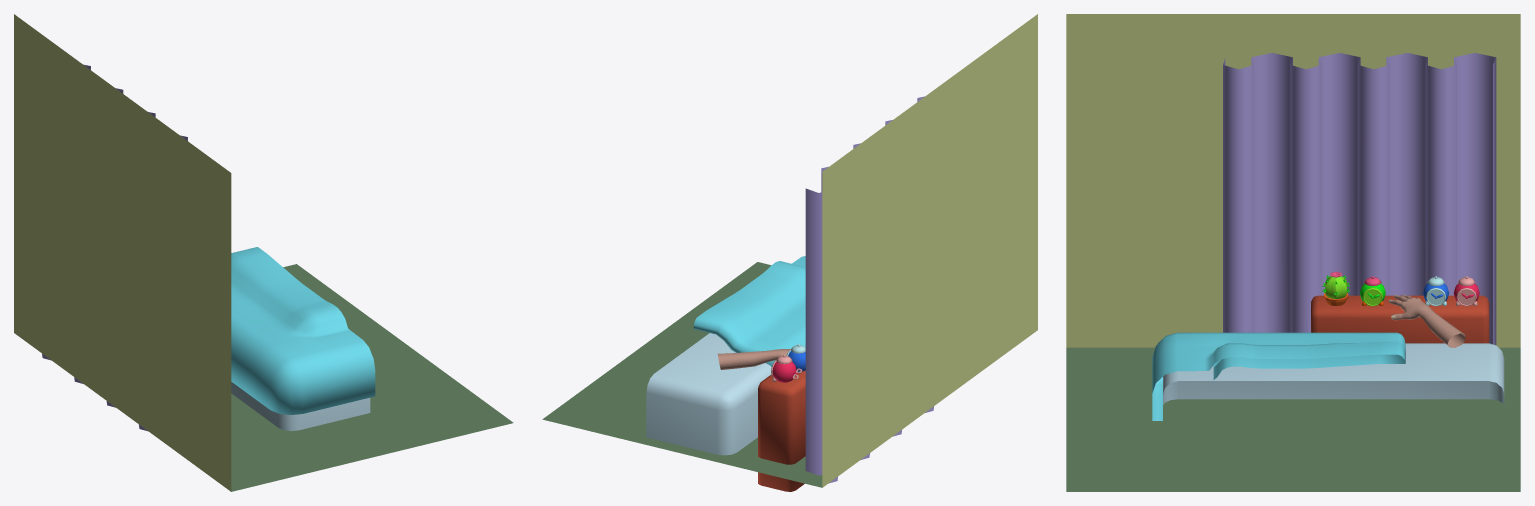
The model's file is room4.fbx.
3 views of the same model, side by side, from view 1: azimuth 30°, elevation 25°; view 2: azimuth 150°, elevation 25°; view 3: azimuth 270°, elevation 25° (orthographic). The views are drawn at different scales.
Visible parts, largest first — view 1: стена пол, кровать; view 2: стена пол, кровать, штора, тумба юмба, рука, красный будильник; view 3: стена пол, штора, кровать, тумба юмба, рука, кактус, будильник кактус, синий будильник, красный будильник.
Part boxes in pixels (x1,y1,x2,y2): стена пол: [14, 14, 513, 491]; кровать: [231, 247, 375, 431]; стена пол: [542, 14, 1037, 487]; кровать: [646, 256, 805, 455]; штора: [805, 96, 933, 483]; тумба юмба: [758, 370, 805, 491]; рука: [717, 349, 790, 369]; красный будильник: [771, 355, 802, 382]; стена пол: [1066, 14, 1520, 491]; штора: [1223, 53, 1496, 344]; кровать: [1152, 332, 1504, 420]; тумба юмба: [1311, 295, 1489, 343]; рука: [1388, 294, 1465, 347]; кактус: [1322, 271, 1349, 305]; будильник кактус: [1359, 276, 1385, 306]; синий будильник: [1423, 276, 1449, 306]; красный будильник: [1453, 276, 1479, 306].
Size of the model in its own units: 200 by 234 by 266.
